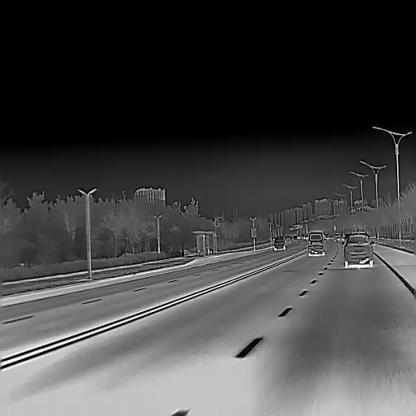car: (340, 230, 374, 266), (308, 230, 324, 254), (272, 235, 286, 249), (333, 233, 340, 240), (324, 233, 330, 240), (303, 234, 308, 240), (296, 235, 300, 239), (300, 235, 304, 238)
